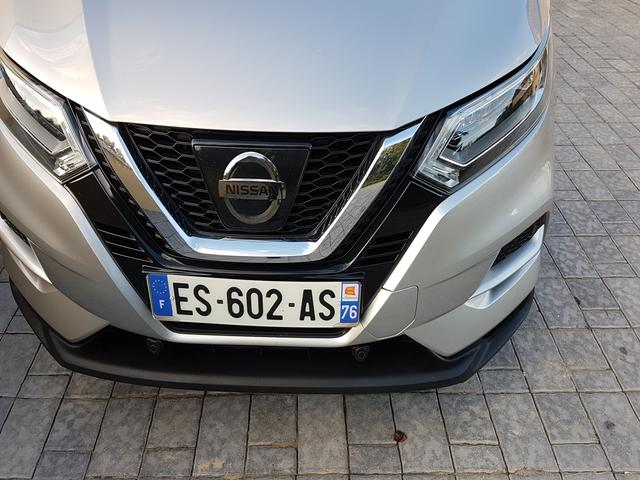Quashquai: (126, 241, 376, 340)
